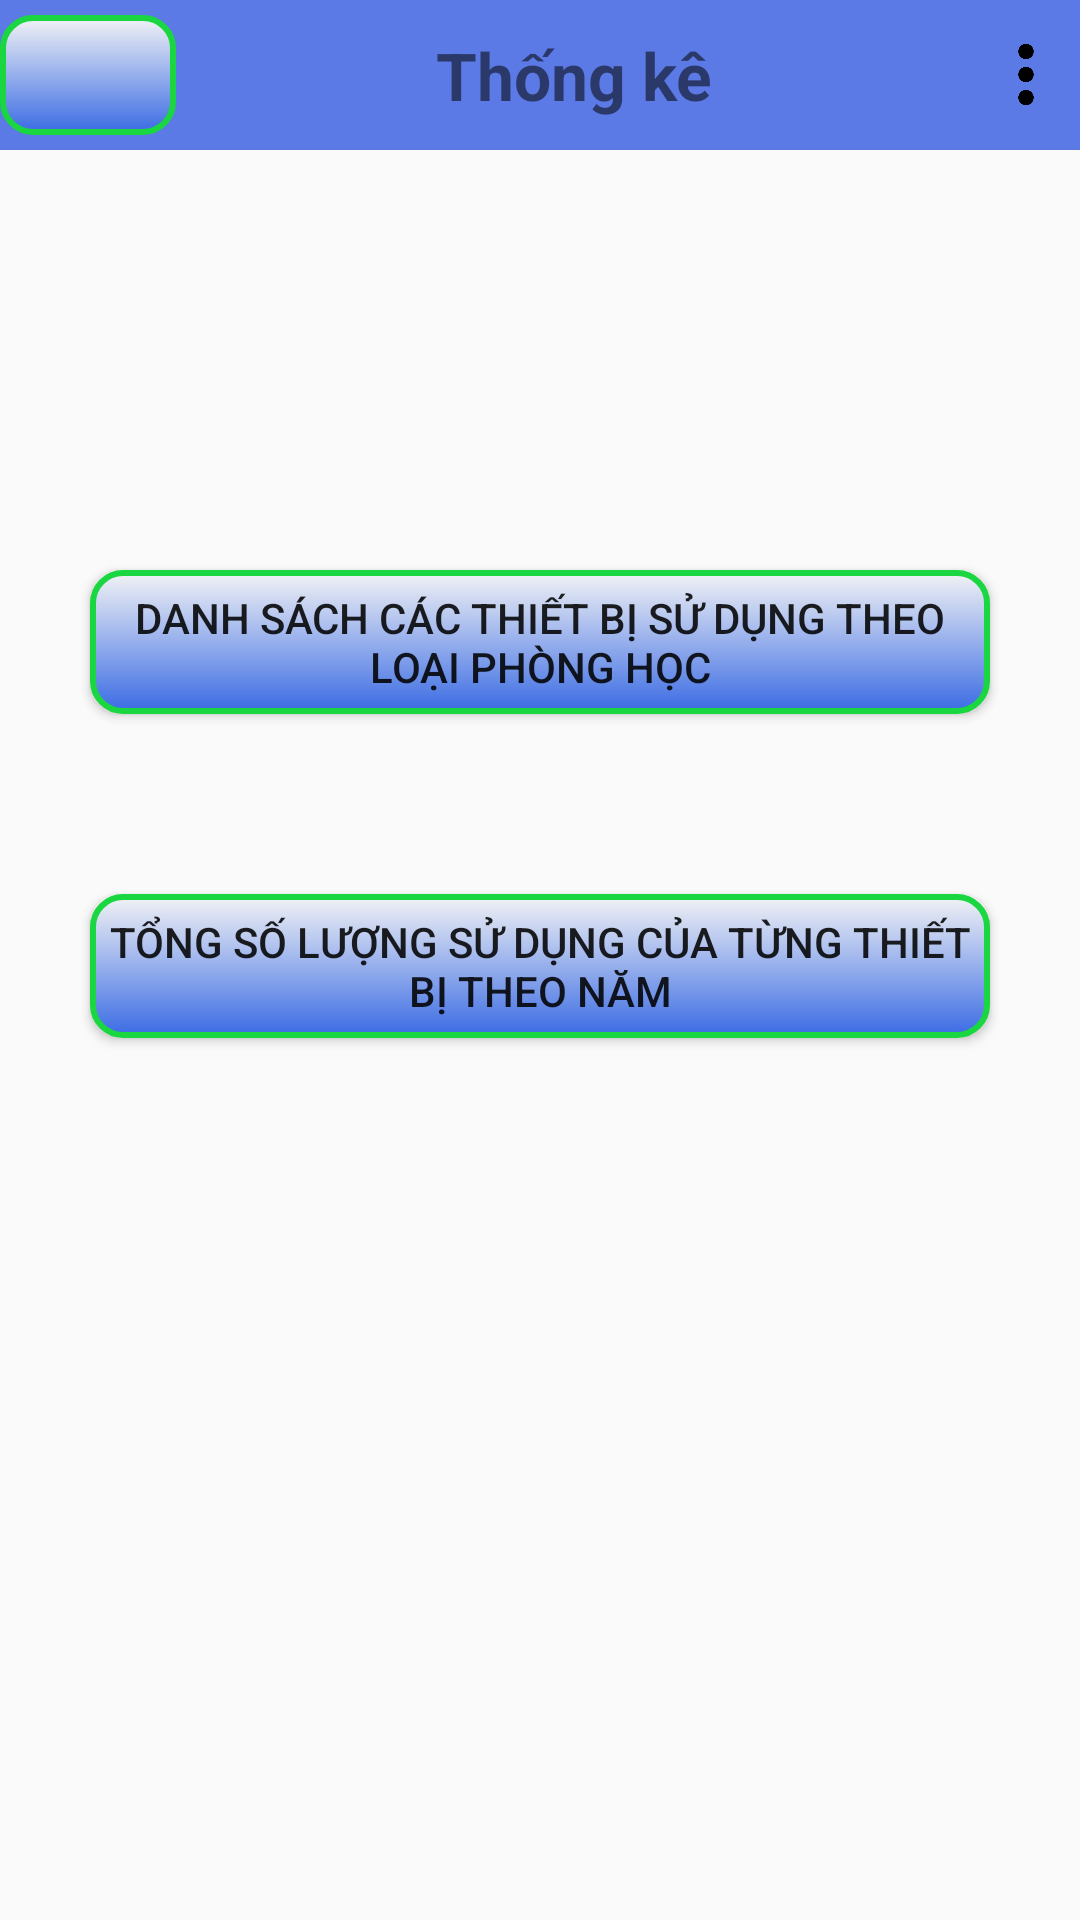

Point at icon controls on the screen. Image size 1080x1920, points as (x=x, y=y).
menu: (x=1026, y=74)
